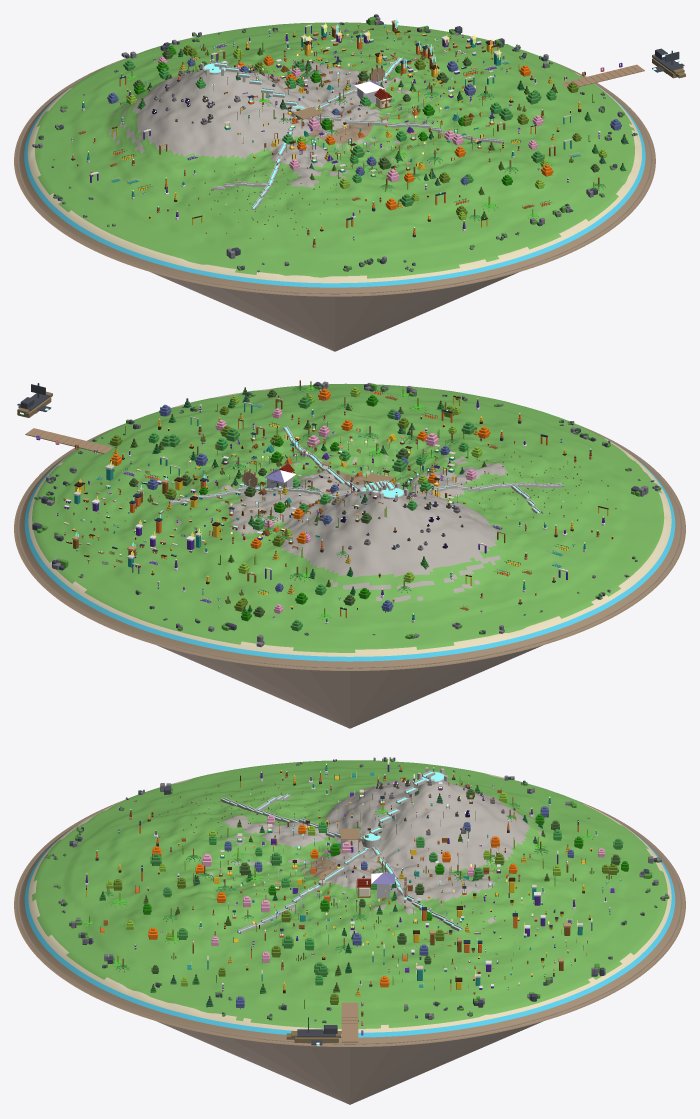
Rendered from Prop_Island_Flagship_BlenderBoss.glb.
3 renders of one model, top to bottom at view 1: azimuth 30°, elevation 25°; view 2: azimuth 150°, elevation 25°; view 3: azimuth 270°, elevation 25°, orthographic. The views are drawn at different scales.
Visible parts, largest first — view 1: Prop_Island_Flagship_BlenderBoss_Terrain, Prop_Island_Flagship_BlenderBoss_Underside, Veh_Ark_Hull.001; view 2: Prop_Island_Flagship_BlenderBoss_Terrain, Prop_Island_Flagship_BlenderBoss_Underside, Veh_Ark_Hull.001; view 3: Prop_Island_Flagship_BlenderBoss_Terrain, Prop_Island_Flagship_BlenderBoss_Underside, Veh_Ark_Hull.001.
Boxes of the visible parts, <box> form: Prop_Island_Flagship_BlenderBoss_Terrain: <box>14,22,655,296</box>; Prop_Island_Flagship_BlenderBoss_Underside: <box>17,73,652,351</box>; Veh_Ark_Hull.001: <box>652,48,685,78</box>; Prop_Island_Flagship_BlenderBoss_Terrain: <box>14,383,685,670</box>; Prop_Island_Flagship_BlenderBoss_Underside: <box>17,437,682,728</box>; Veh_Ark_Hull.001: <box>17,383,52,417</box>; Prop_Island_Flagship_BlenderBoss_Terrain: <box>14,760,685,1046</box>; Prop_Island_Flagship_BlenderBoss_Underside: <box>17,812,682,1104</box>; Veh_Ark_Hull.001: <box>286,1017,341,1042</box>.
Size of the model in its own units: 266 by 116 by 242.
